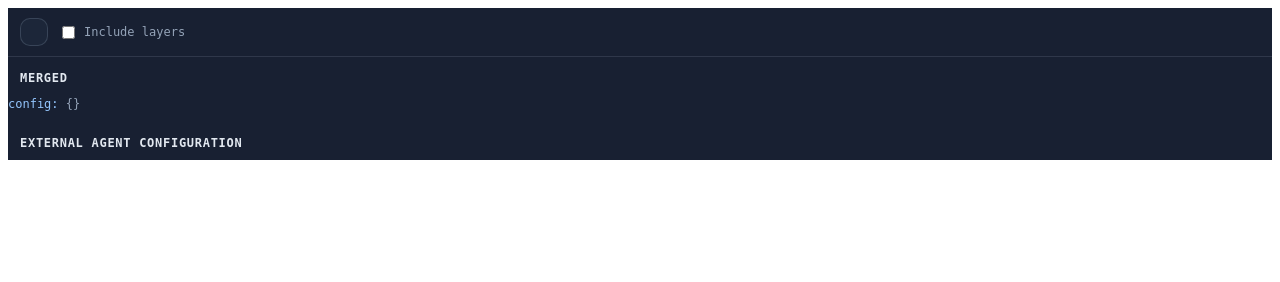
Test: CodexConfigViewer › shows disconnected feedback and disables external-agent actions
The image size is (1280, 282).
Click the element with class "codex-config-section-header" showing "External agent configuration": (131, 143) [20, 136, 242, 150]
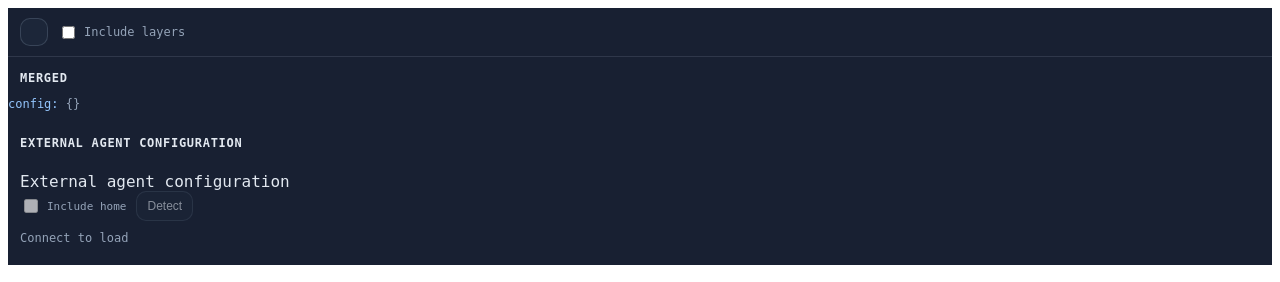
Expected: the text "Connect to load" is shown, [20, 231, 128, 245]
Expected: the checkbox labelled "Include home" is disabled, [24, 199, 38, 213]
Expected: the button "Detect" is disabled, [136, 191, 193, 221]
